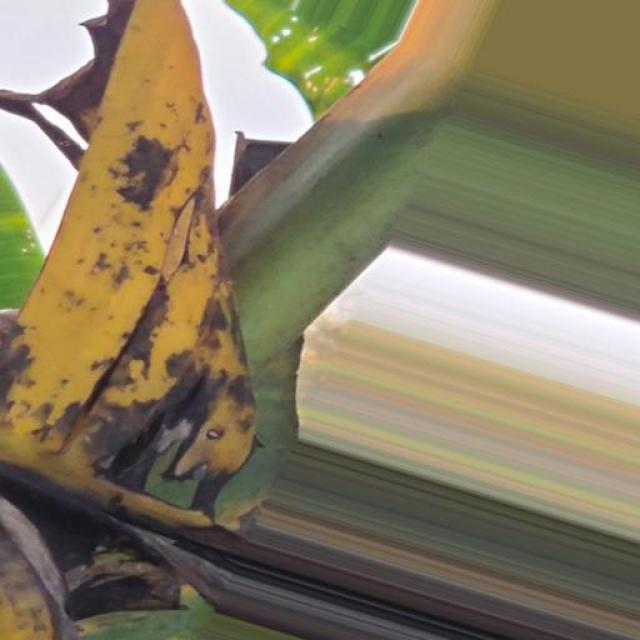Cordana: (0, 0, 338, 639)
